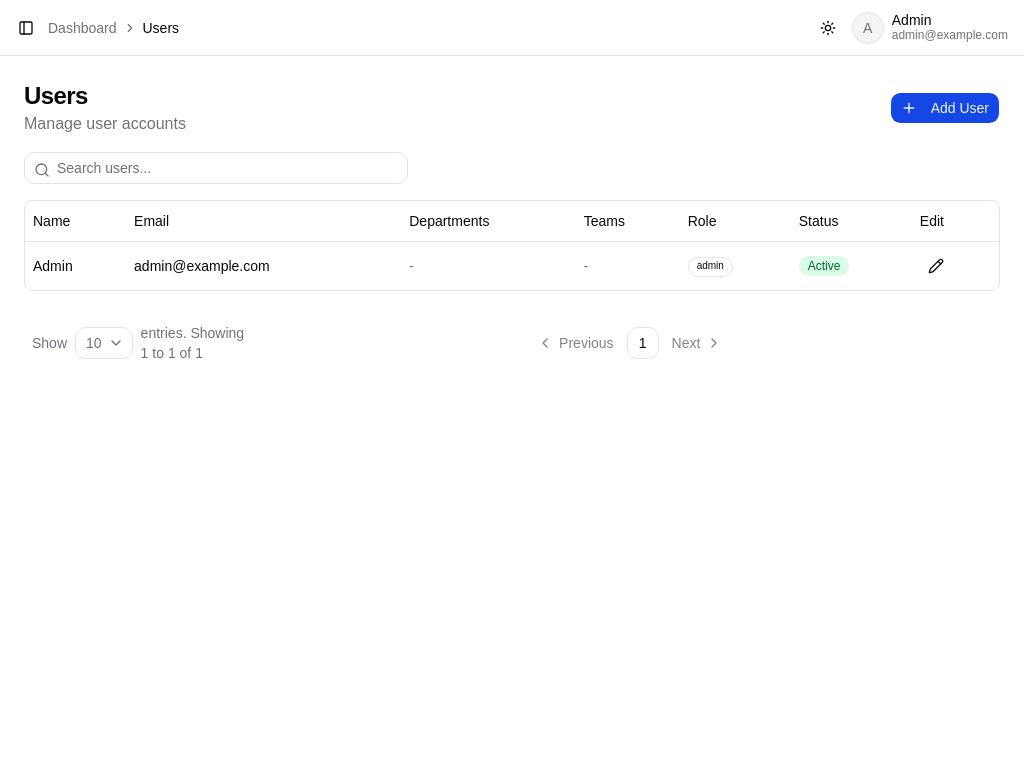
Test: Users page › opens Add User dialog and shows validation error for short password
Step 1. Click the button "Add User" → point(945, 108), box x1=890 y1=92 x2=1000 y2=124
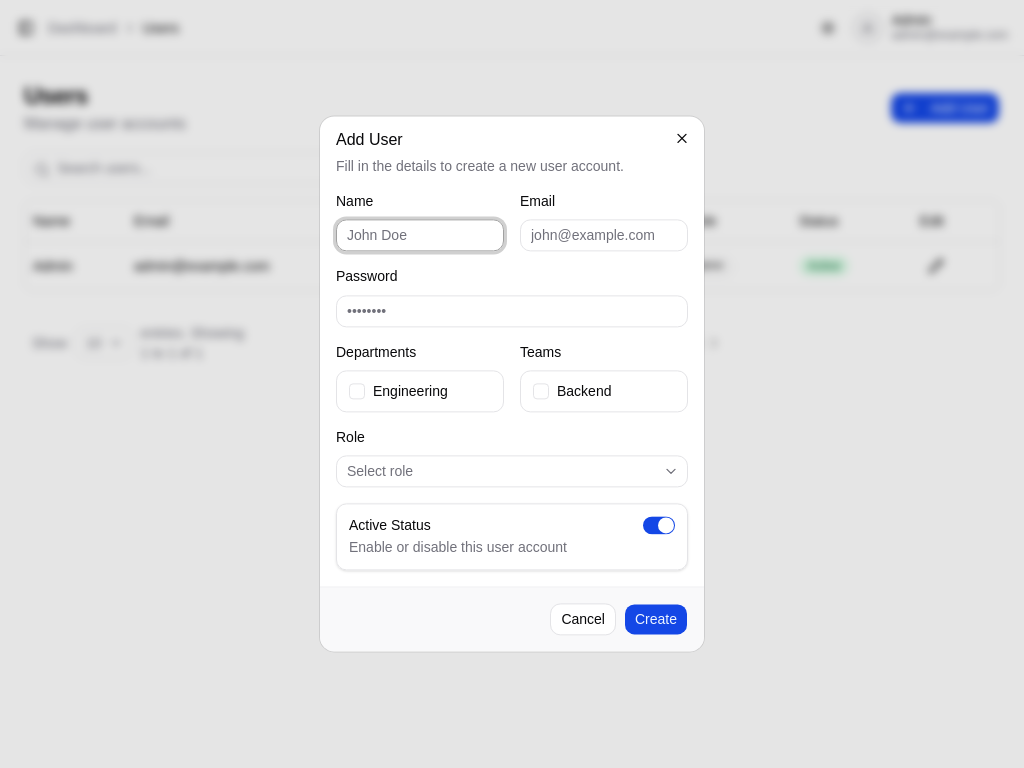
Expected: the password field with placeholder "••••••••" is shown, x1=336 y1=295 x2=688 y2=327
Step 2. Type "New User" into the field with placeholder "John Doe" → point(420, 236), box x1=336 y1=220 x2=504 y2=252
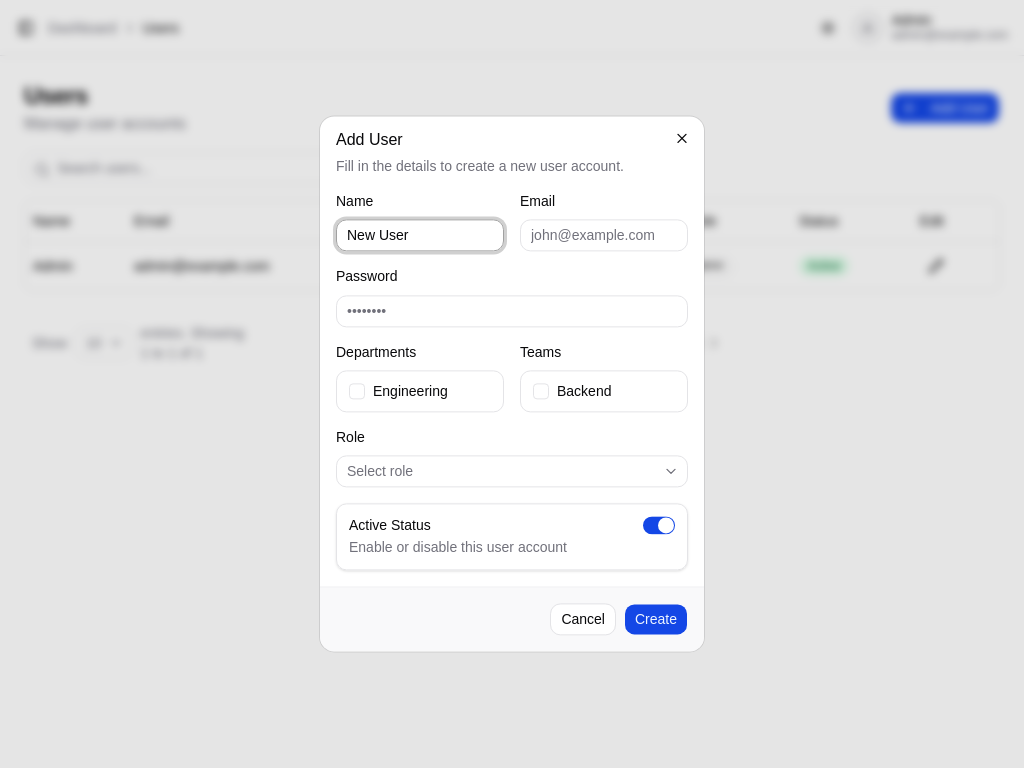
Step 3. Type "new@example.com" into the field with placeholder "john@example.com" → point(604, 236), box x1=520 y1=220 x2=688 y2=252
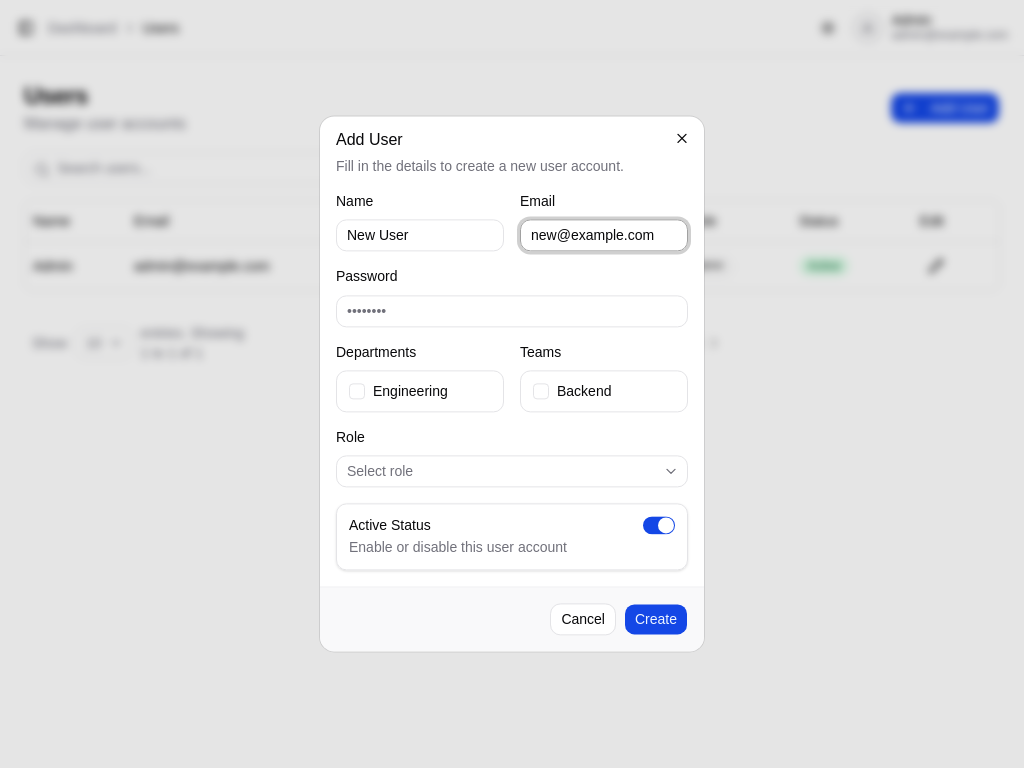
Step 4. Type "12345" into the password field with placeholder "••••••••" → point(512, 311), box x1=336 y1=295 x2=688 y2=327
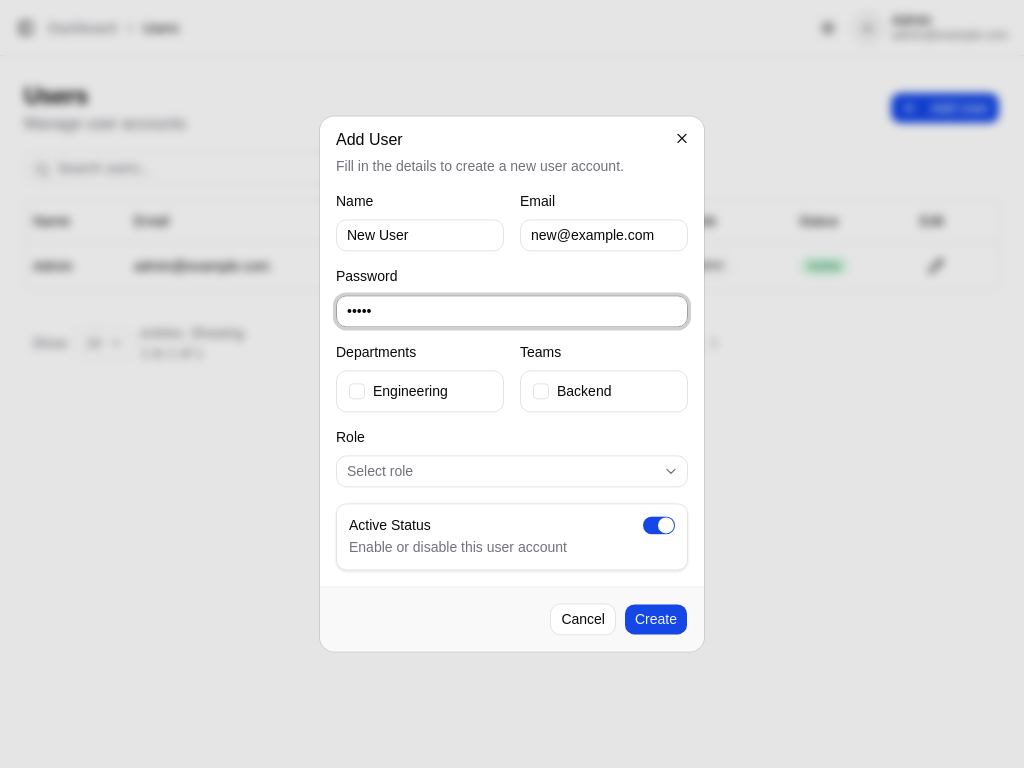
Step 5. Click the button "Create" → point(656, 620), box x1=624 y1=604 x2=688 y2=636
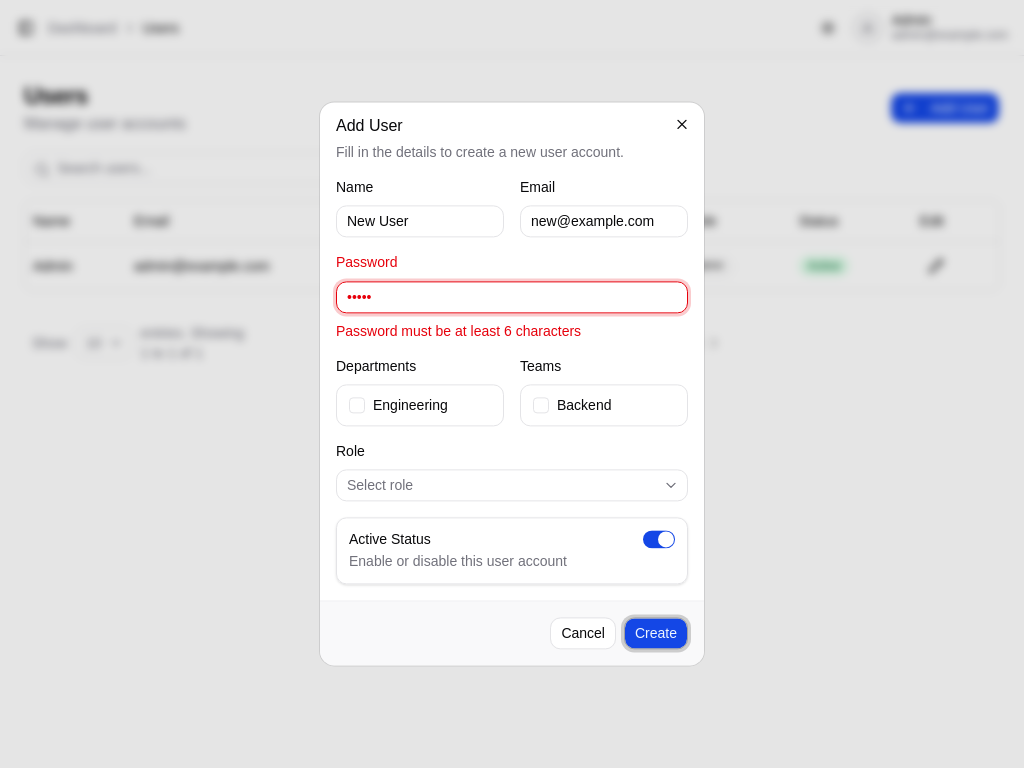
Expected: the text "Password must be at least 6 characters" is shown, x1=336 y1=323 x2=581 y2=339
